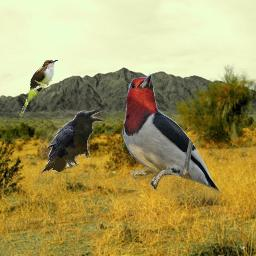Crow: (39, 110, 102, 176)
Cuckoo: (19, 59, 58, 117)
Woodpecker: (118, 68, 227, 205)
